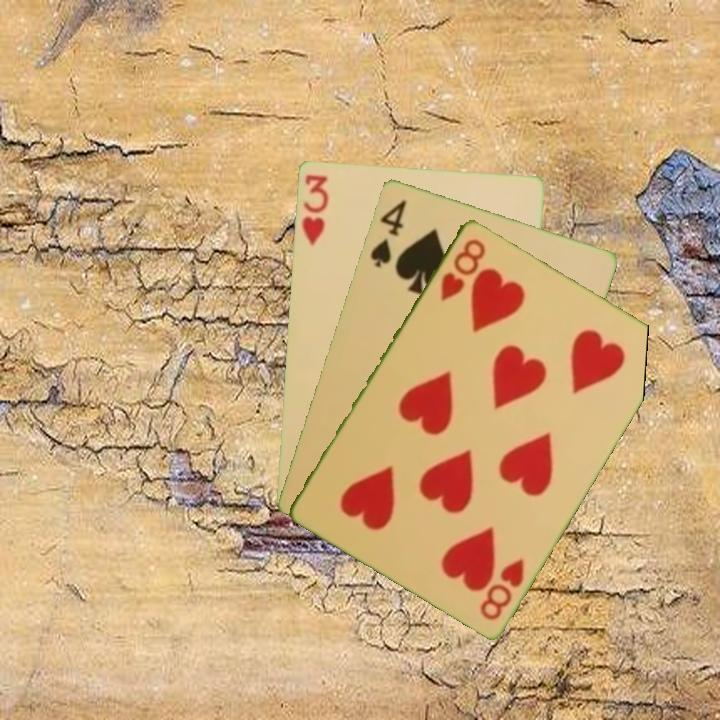3h: (297, 170, 331, 248)
4s: (366, 195, 409, 270)
8h: (436, 234, 489, 304), (476, 554, 527, 623)
